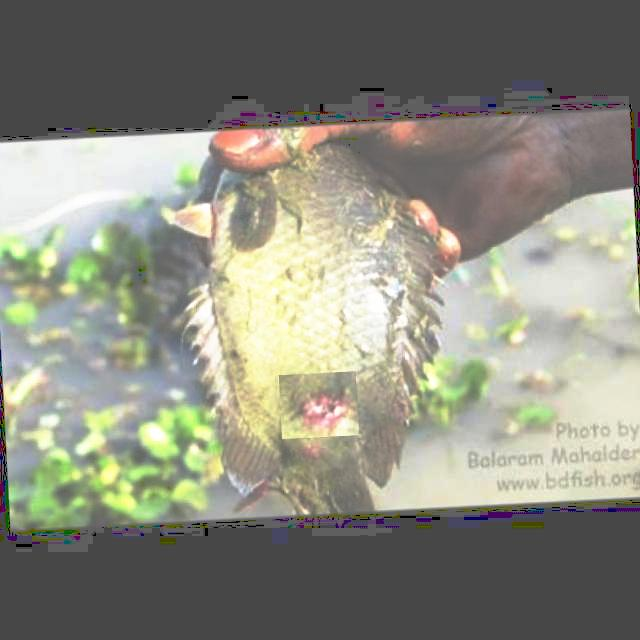Aeromonas Septicemia: (164, 142, 448, 517)
